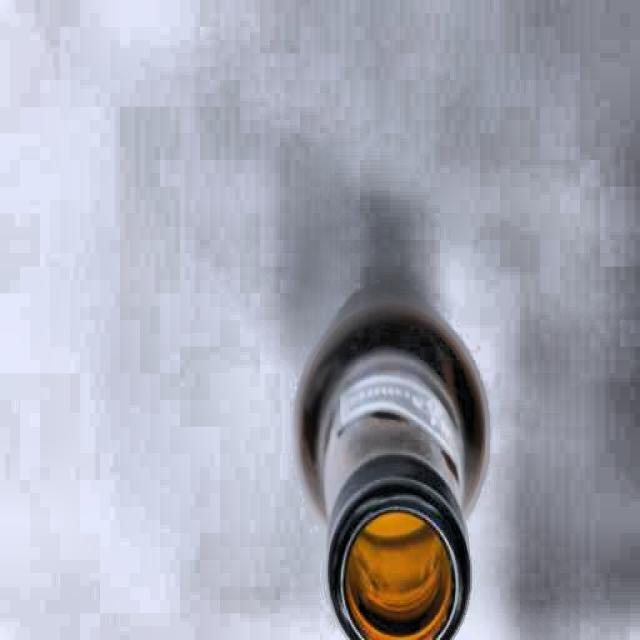glass: (292, 288, 498, 640)
